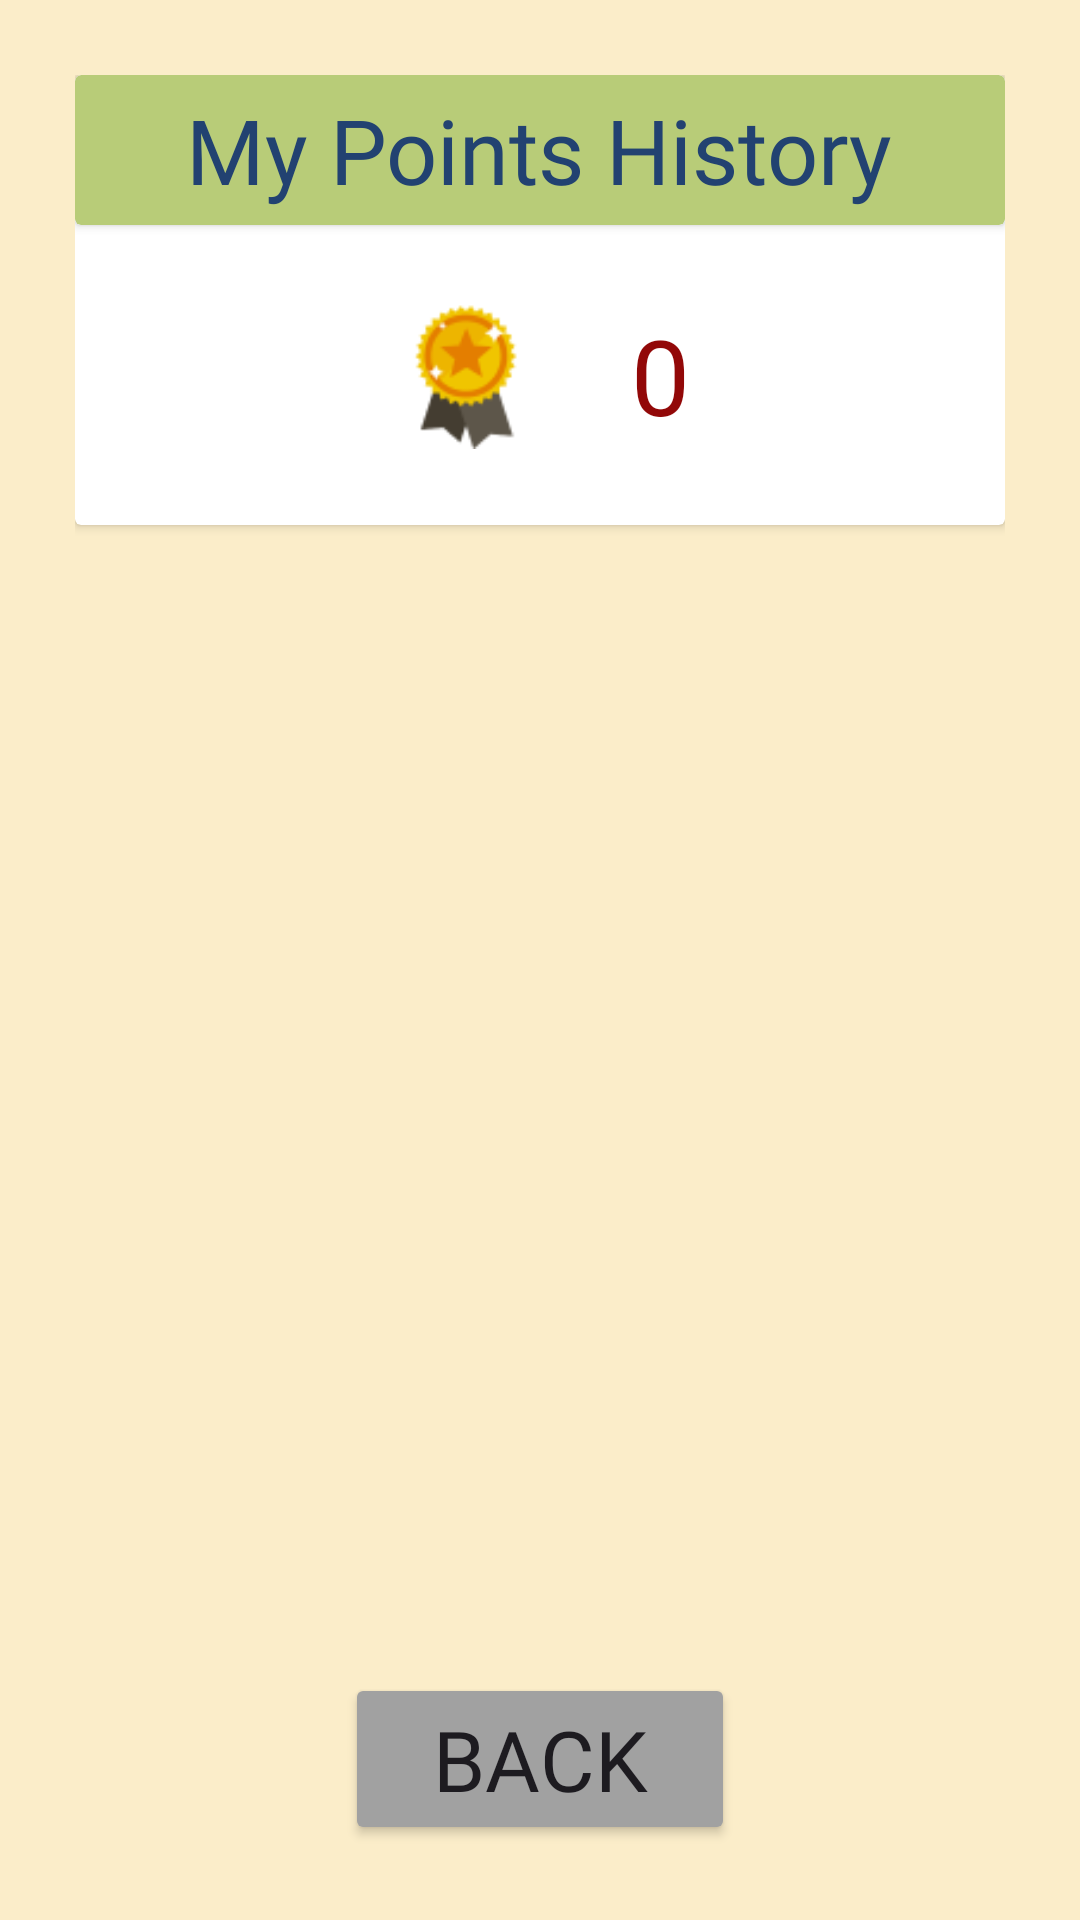

Named icons in this screenshot (1080*1920) and their bounding boxes, (x1, y1, x2, y2):
award ribbon: (415, 305, 517, 449)
